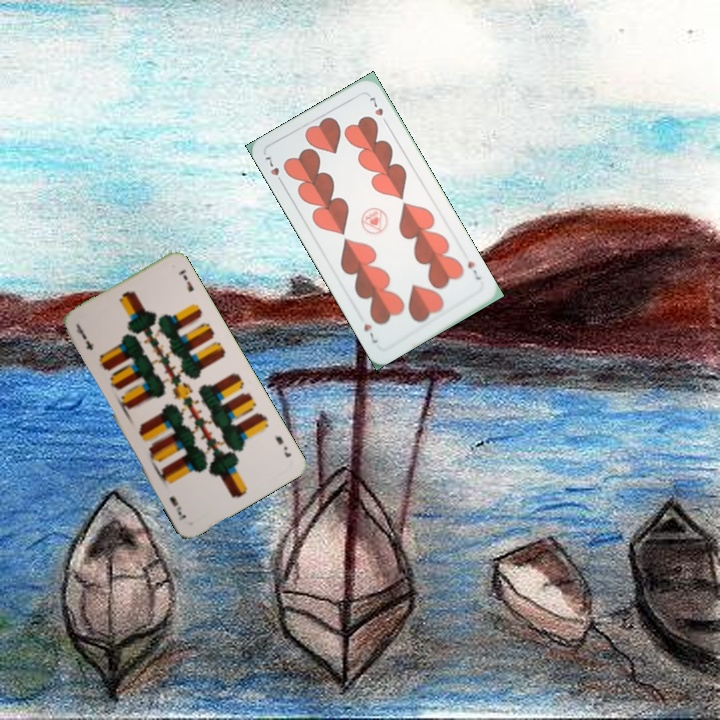E7: (72, 322, 95, 353), (270, 431, 294, 460)
H7: (261, 152, 287, 188), (463, 257, 483, 283)
